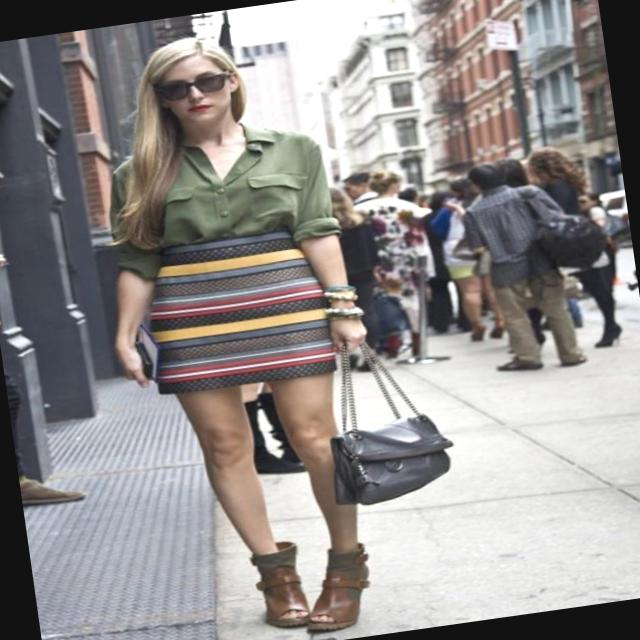shirt: (99, 114, 344, 282)
skirt: (138, 227, 344, 399)
